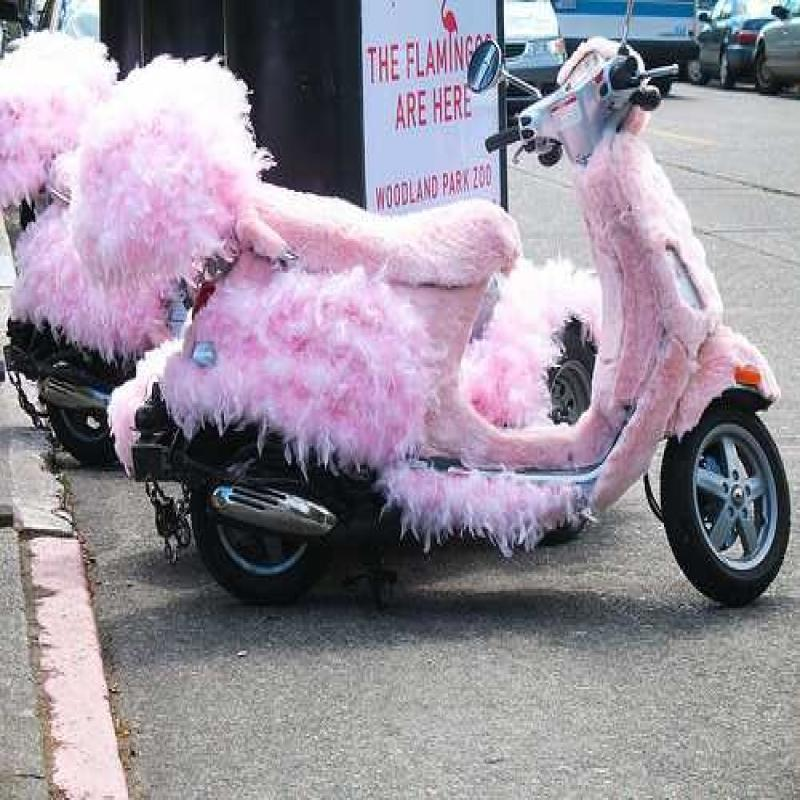bike: (196, 59, 784, 612)
